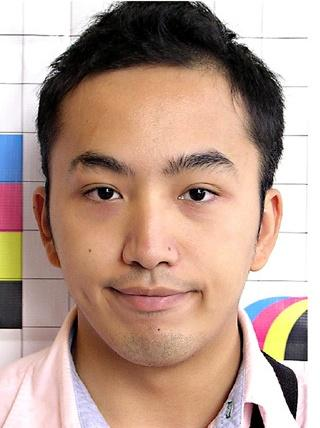No Mask: (31, 7, 297, 327)
